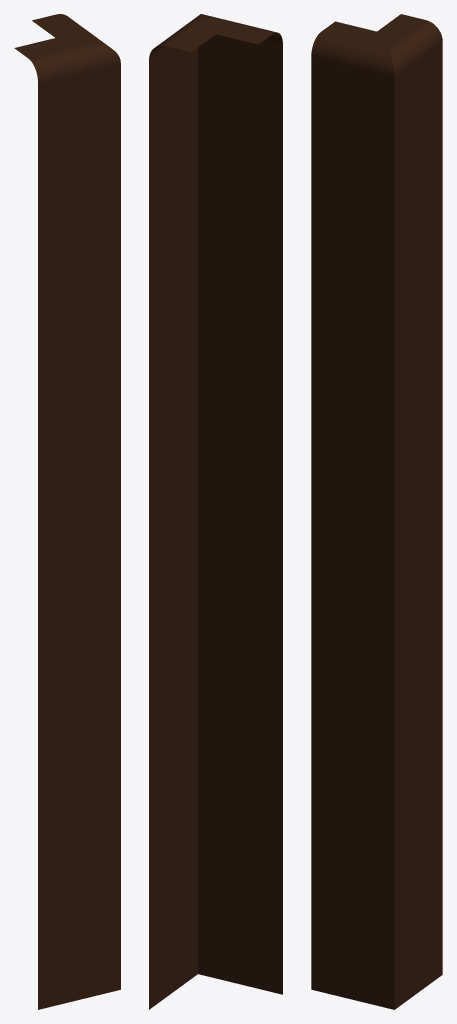
File: Trim_Tall_Corner.fbx
3 views of the same model, side by side, from view 1: azimuth 30°, elevation 25°; view 2: azimuth 150°, elevation 25°; view 3: azimuth 330°, elevation 25° (orthographic). The views are drawn at different scales.
Parts seen in each view (by area): view 1: Trim_Tall_Corner; view 2: Trim_Tall_Corner; view 3: Trim_Tall_Corner.
Part boxes in pixels (x1,y1,x2,y2): Trim_Tall_Corner: (14,14,120,1009); Trim_Tall_Corner: (149,14,282,1009); Trim_Tall_Corner: (311,14,442,1009).
Bounding box in the file's own units: 10 × 109 × 10.
